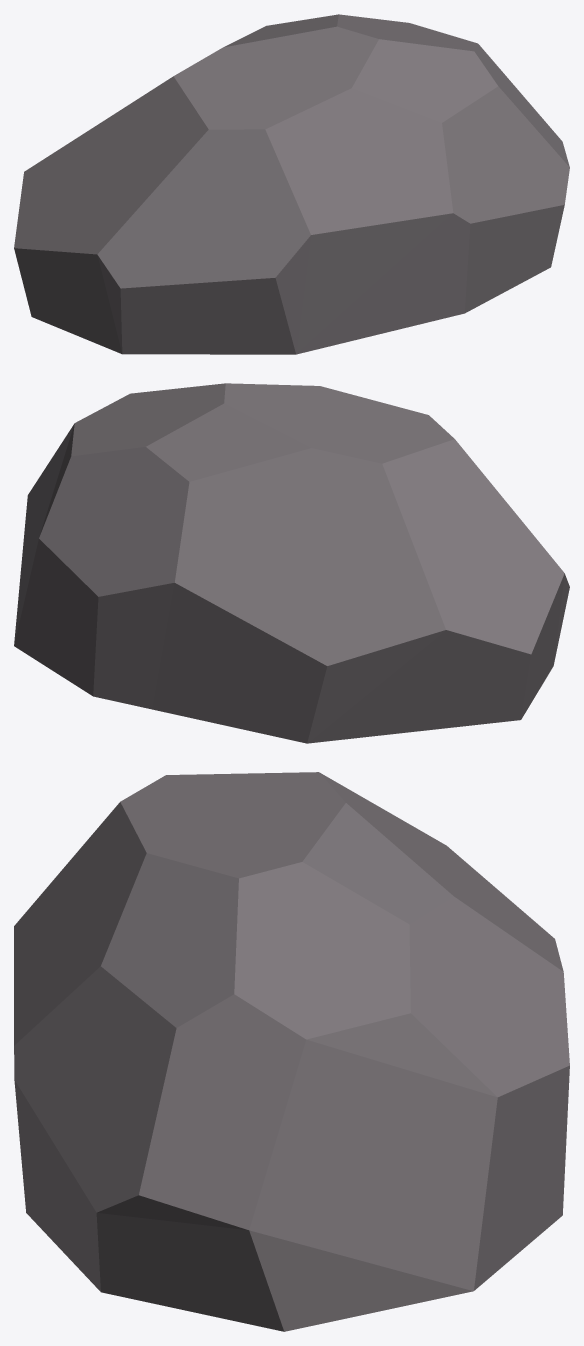
The model's file is Rock_Round_l_08.fbx.
The picture shows the model from 3 angles, top to bottom: view 1: azimuth 30°, elevation 25°; view 2: azimuth 150°, elevation 25°; view 3: azimuth 270°, elevation 25°; orthographic projection. The views are drawn at different scales.
Parts seen in each view (by area): view 1: Rock_Round_l_08; view 2: Rock_Round_l_08; view 3: Rock_Round_l_08.
Boxes of the visible parts, x1,y1,x2,y2 form: Rock_Round_l_08: [14, 14, 569, 354]; Rock_Round_l_08: [14, 383, 569, 743]; Rock_Round_l_08: [14, 772, 569, 1331].
Size of the model in its own units: 339 by 141 by 217.
